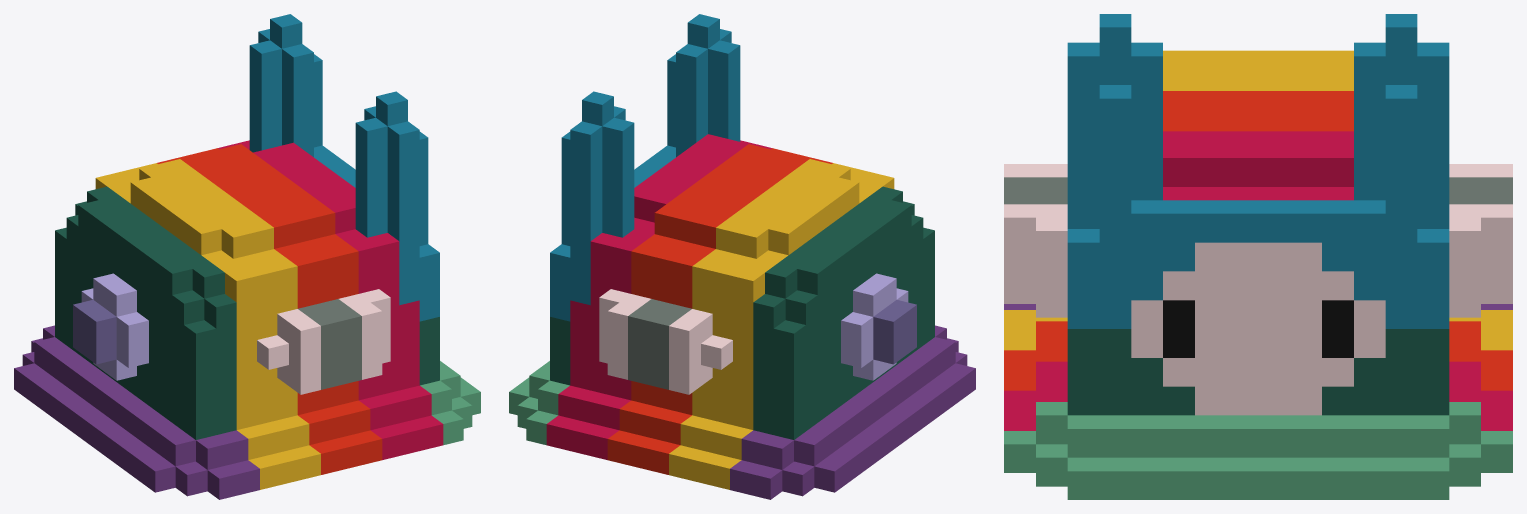
The model's file is WowSlime.obj.
3 views of the same model, side by side, from view 1: azimuth 30°, elevation 25°; view 2: azimuth 150°, elevation 25°; view 3: azimuth 270°, elevation 25° (orthographic). The views are drawn at different scales.
Size of the model in its own units: 1.6 by 1.5 by 1.6.
1 material, 1 textured.
